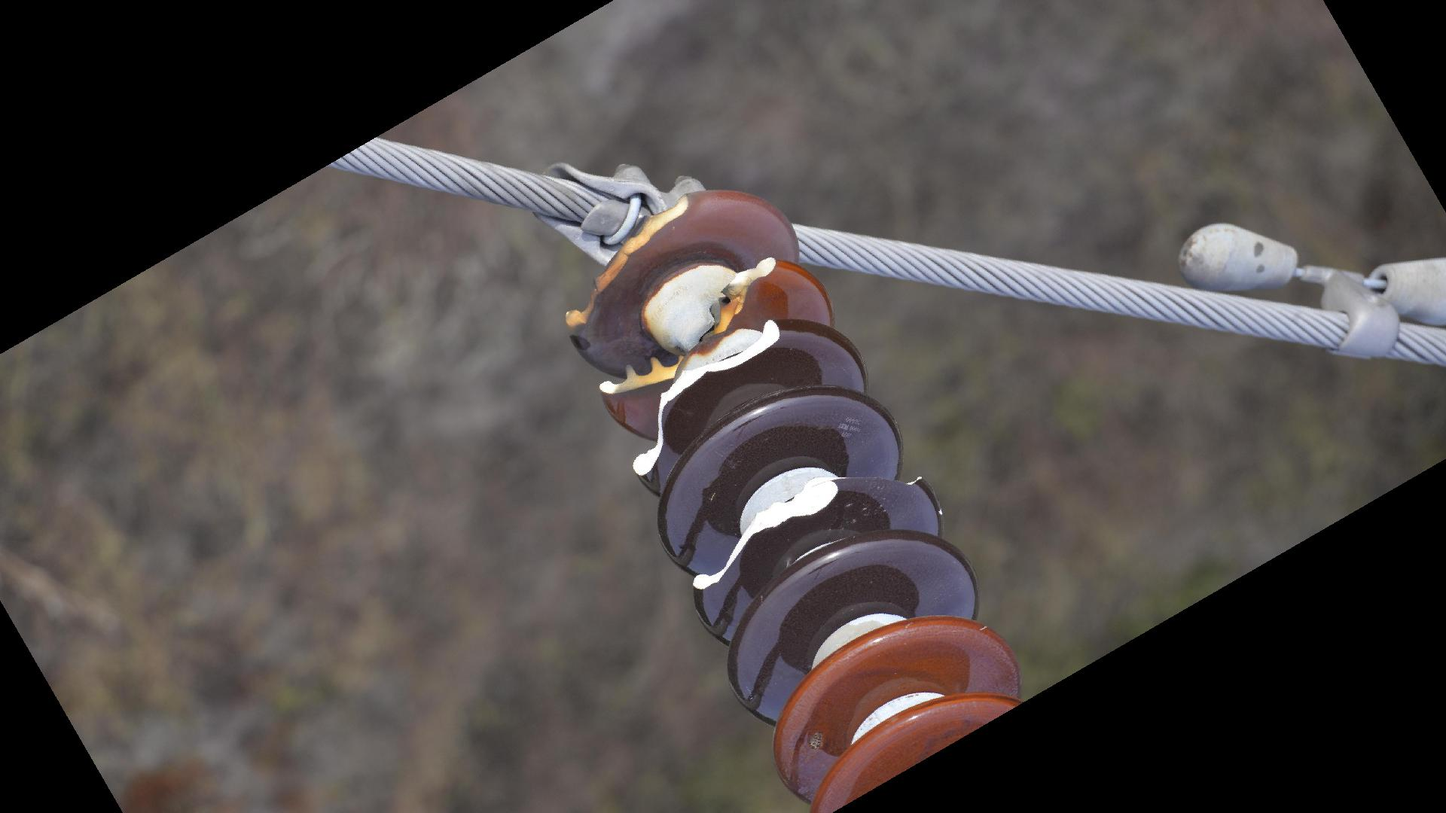insulator: (557, 182, 1030, 813)
insulator_breakage: (685, 465, 932, 596), (593, 250, 782, 401), (629, 315, 785, 483), (561, 190, 696, 337)
